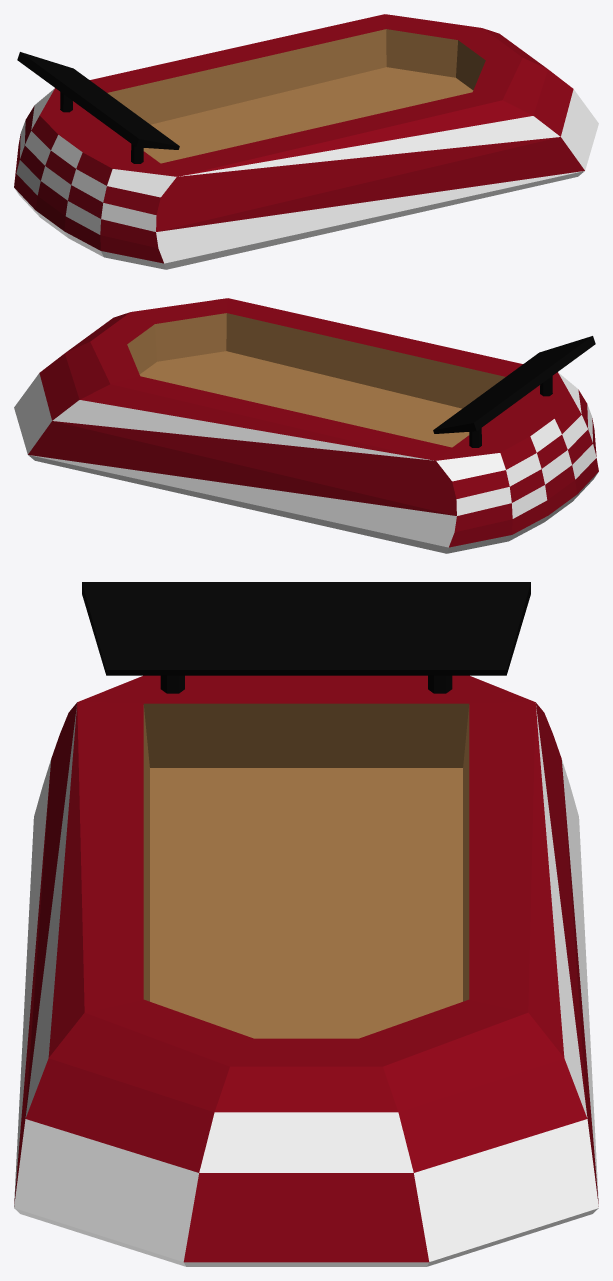
File: SM_Basic_Car_Body.fbx
3 renders of one model, top to bottom at view 1: azimuth 30°, elevation 25°; view 2: azimuth 150°, elevation 25°; view 3: azimuth 270°, elevation 25°, orthographic. The views are drawn at different scales.
Visible parts, largest first — view 1: Basic Car Body; view 2: Basic Car Body; view 3: Basic Car Body.
Part boxes in pixels (<box>): Basic Car Body: <box>14,14,598,269</box>; Basic Car Body: <box>14,298,598,553</box>; Basic Car Body: <box>14,582,598,1266</box>.
Size of the model in its own units: 490 by 117 by 255.
